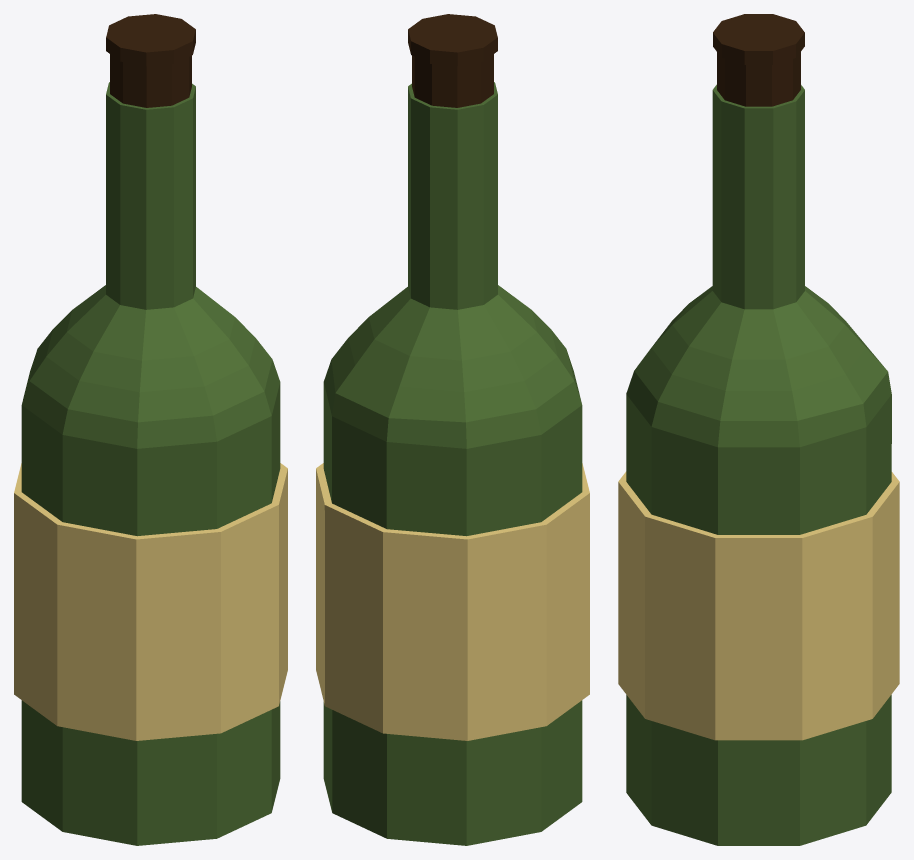
Rendered from contraband_bottle.fbx.
The picture shows the model from 3 angles, left to right: view 1: azimuth 30°, elevation 25°; view 2: azimuth 150°, elevation 25°; view 3: azimuth 270°, elevation 25°; orthographic projection.
Parts seen in each view (by area): view 1: Bottle; view 2: Bottle; view 3: Bottle.
Part boxes in pixels (x1,y1,x2,y2): Bottle: (14, 14, 287, 845); Bottle: (316, 14, 589, 845); Bottle: (618, 14, 899, 845).
Size of the model in its own units: 202 by 632 by 212.
